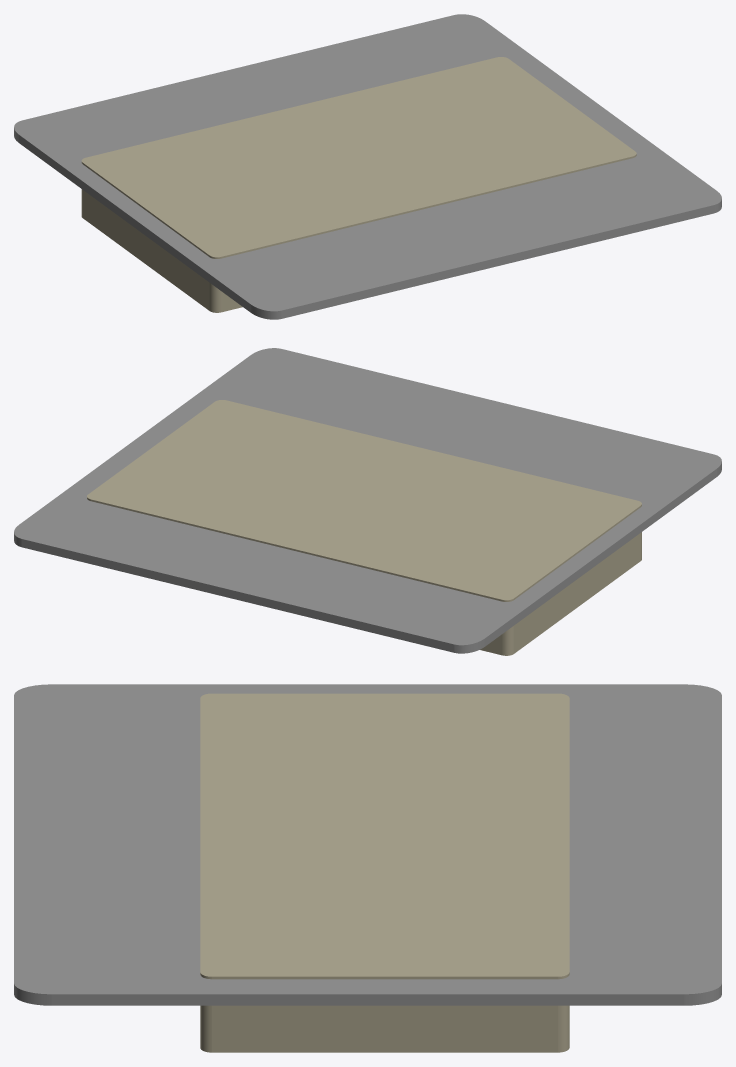
Rendered from piacina.FBX.
The picture shows the model from 3 angles, top to bottom: view 1: azimuth 30°, elevation 25°; view 2: azimuth 150°, elevation 25°; view 3: azimuth 270°, elevation 25°; orthographic projection. The views are drawn at different scales.
Parts seen in each view (by area): view 1: Rectangle004, Rectangle001; view 2: Rectangle004, Rectangle001; view 3: Rectangle001, Rectangle004.
Part boxes in pixels (left/top/right/bottom): Rectangle004: left=14, top=14, right=721, bottom=319; Rectangle001: left=81, top=57, right=636, bottom=312; Rectangle004: left=14, top=348, right=721, bottom=653; Rectangle001: left=87, top=400, right=641, bottom=655; Rectangle001: left=200, top=693, right=569, bottom=1052; Rectangle004: left=14, top=684, right=721, bottom=1005.
Bounding box in the file's own units: 958 × 925 × 109.
